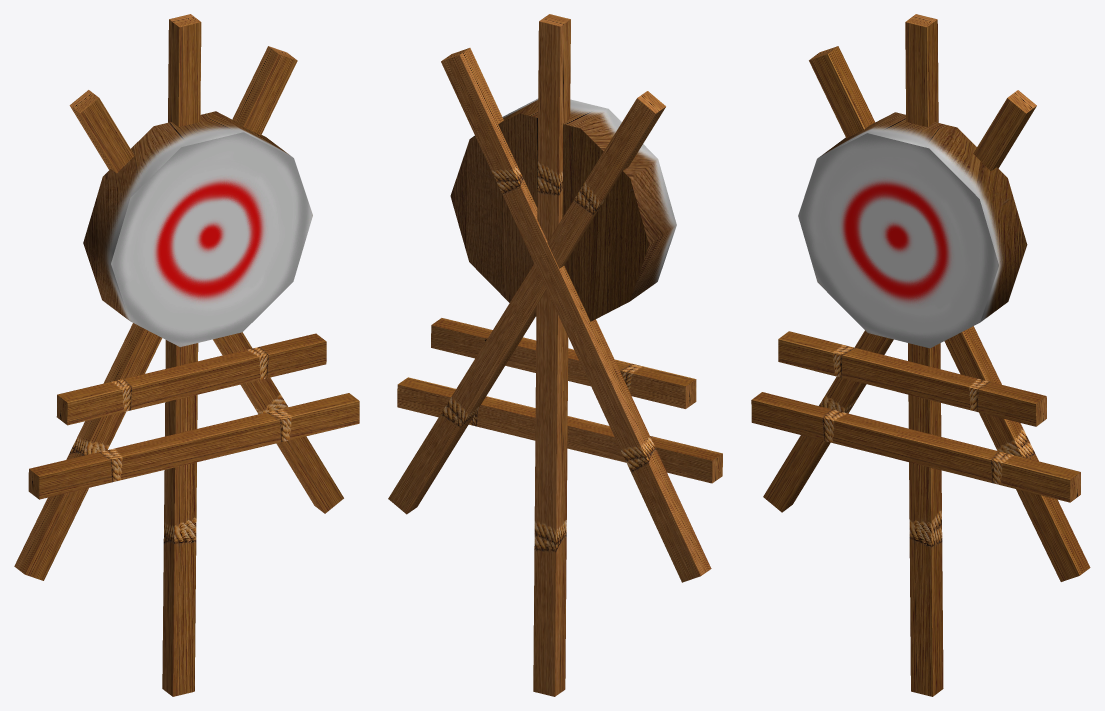
File: Target.FBX
The picture shows the model from 3 angles, left to right: view 1: azimuth 30°, elevation 25°; view 2: azimuth 150°, elevation 25°; view 3: azimuth 330°, elevation 25°; orthographic projection.
Visible parts, largest first — view 1: Target; view 2: Target; view 3: Target.
Boxes of the visible parts, x1,y1,x2,y2 form: Target: (14,14,359,696); Target: (388,14,722,696); Target: (751,14,1090,696).
Bounding box in the file's own units: 10.06 × 20.18 × 2.01.
